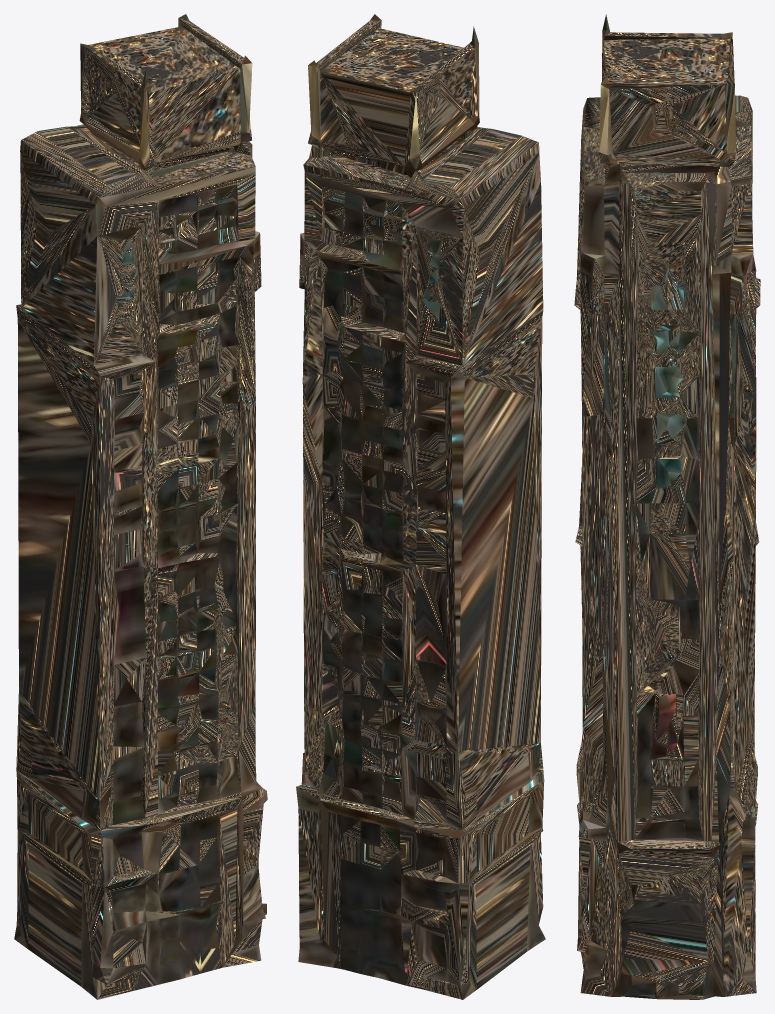
Rendered from b02_far.glb.
3 renders of one model, left to right at view 1: azimuth 30°, elevation 25°; view 2: azimuth 150°, elevation 25°; view 3: azimuth 270°, elevation 25°, orthographic. The views are drawn at different scales.
Visible parts, largest first — view 1: b02_far; view 2: b02_far; view 3: b02_far.
Boxes of the visible parts, box(x1,y1,x2,y2) form: b02_far: box(14, 14, 267, 999); b02_far: box(296, 14, 545, 999); b02_far: box(574, 14, 760, 999).
Bounding box in the file's own units: 17.15 × 80 × 14.54.
1 material, 1 textured.
